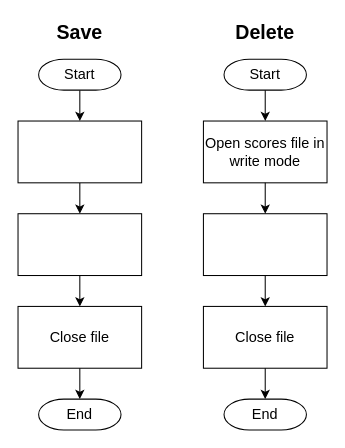
Some shapes in this 345 by 448 pixel diagram are drawn without their labels. Each missing label, with the centre of its shape:
"Open scores file in append mode" belongs at pixel 79 151.
"Write empty string to file" belongs at pixel 264 244.
"Write stats to file" belongs at pixel 79 244.
